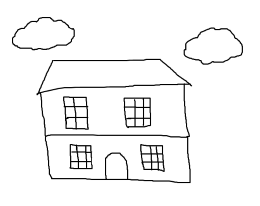closed_window: (62, 96, 89, 130), (123, 96, 152, 127), (140, 143, 165, 173), (68, 144, 94, 169)
clouds: (10, 13, 80, 54), (182, 25, 244, 65)
door: (100, 145, 129, 182)
roof: (37, 58, 192, 96)
wall: (39, 83, 196, 183)
